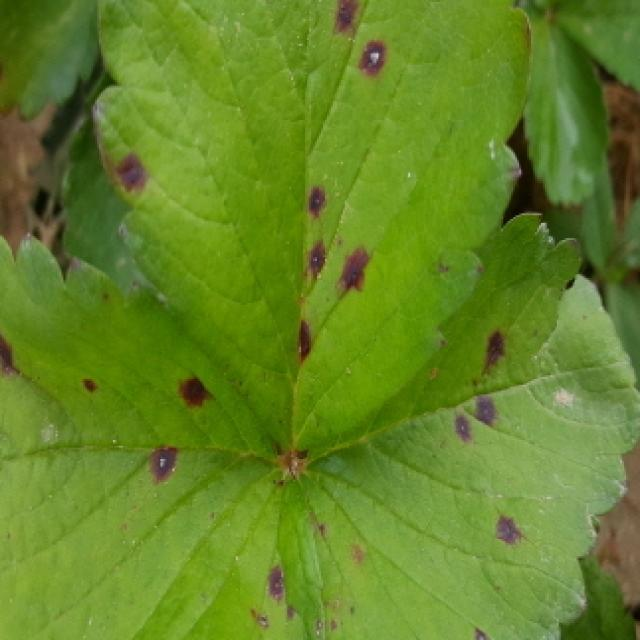Leaf Spot: (90, 0, 536, 465), (287, 212, 640, 640), (0, 229, 327, 640)
